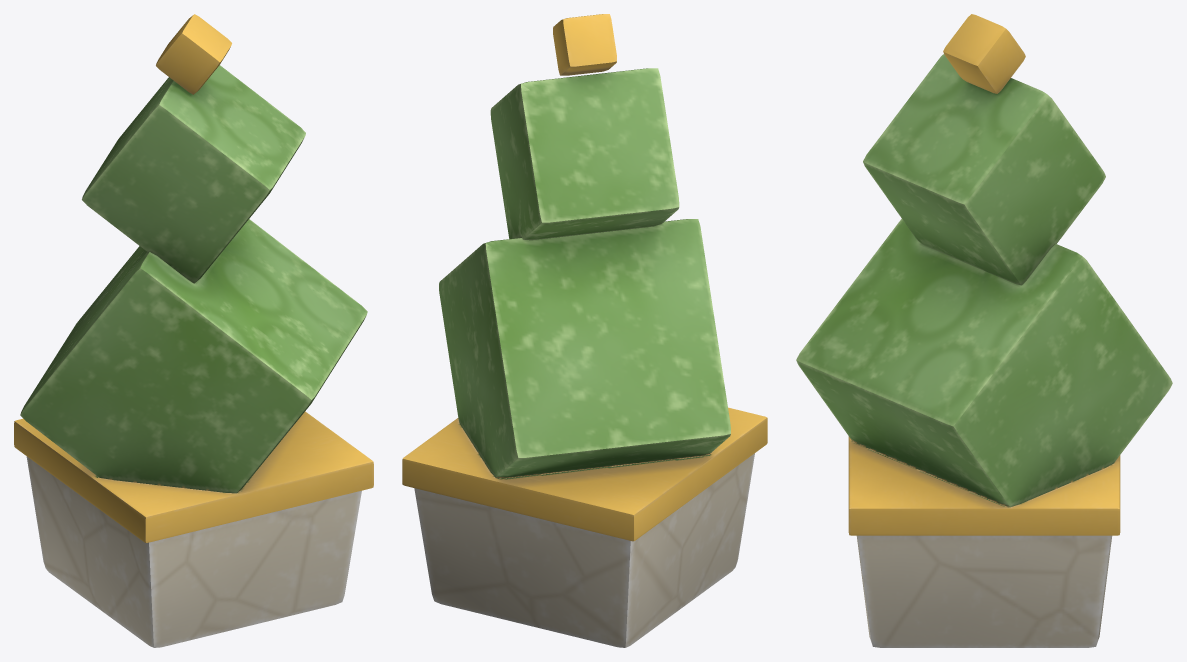
Rendered from Divin_Buisson.fbx.
3 views of the same model, side by side, from view 1: azimuth 30°, elevation 25°; view 2: azimuth 150°, elevation 25°; view 3: azimuth 270°, elevation 25° (orthographic). The views are drawn at different scales.
Visible parts, largest first — view 1: Divin_Buisson; view 2: Divin_Buisson; view 3: Divin_Buisson.
Boxes of the visible parts, x1,y1,x2,y2 form: Divin_Buisson: [14, 14, 373, 647]; Divin_Buisson: [402, 14, 767, 647]; Divin_Buisson: [796, 14, 1172, 647].
Bounding box in the file's own units: 430 × 730 × 430.
1 material, 1 textured.
